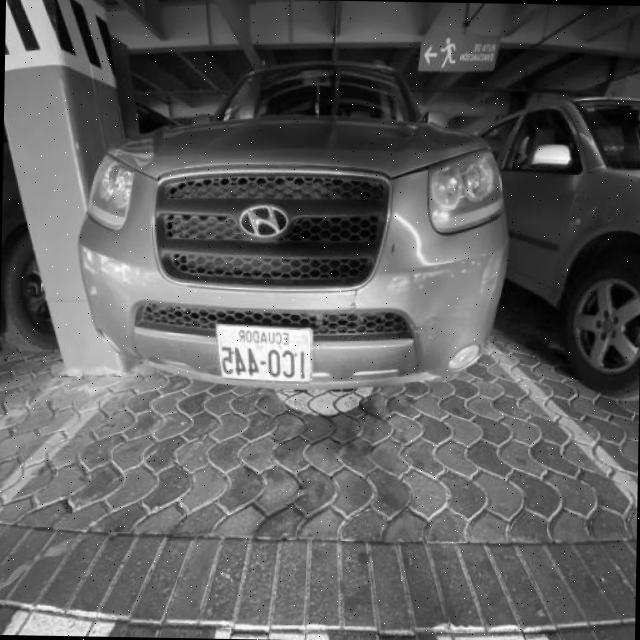Placa: (217, 325, 311, 381)
